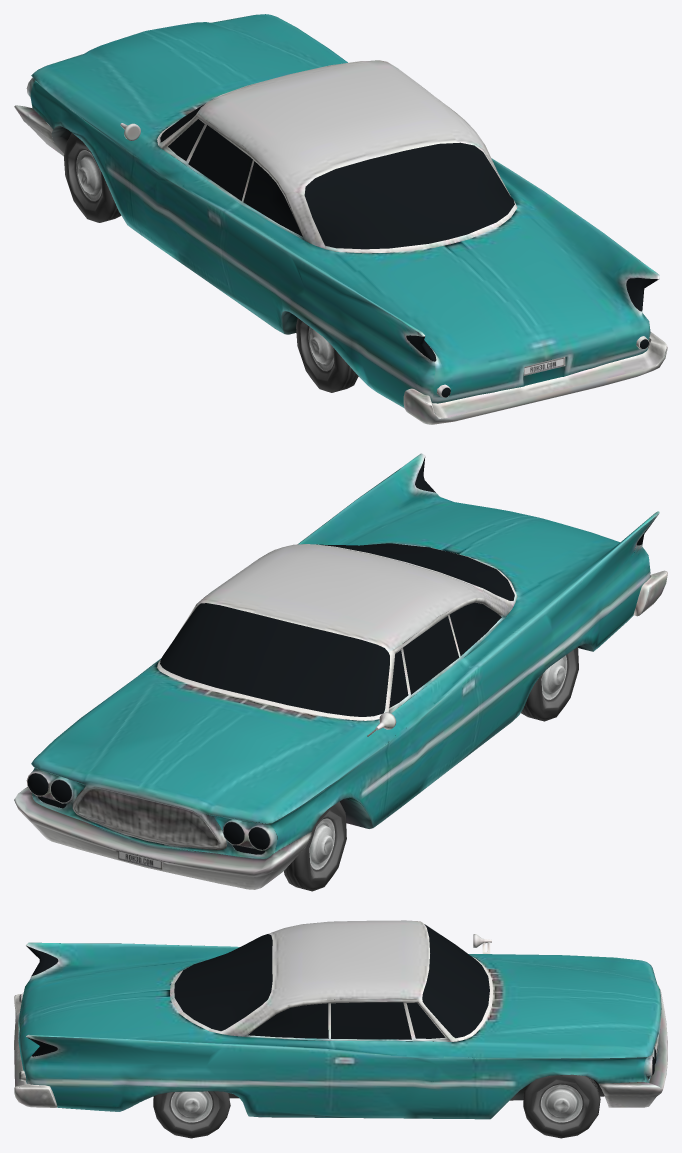
The model's file is old-car-saratoga.glb.
3 renders of one model, top to bottom at view 1: azimuth 30°, elevation 25°; view 2: azimuth 150°, elevation 25°; view 3: azimuth 270°, elevation 25°, orthographic. The views are drawn at different scales.
Parts seen in each view (by area): view 1: body, wheel_FL, wheel_RL; view 2: body, wheel_FL, wheel_RL; view 3: body, wheel_FR, wheel_RR.
Boxes of the visible parts, bbox=[...] form: body: bbox=[14, 14, 667, 424]; wheel_FL: bbox=[64, 133, 121, 222]; wheel_RL: bbox=[296, 318, 358, 392]; body: bbox=[14, 453, 667, 889]; wheel_FL: bbox=[284, 801, 346, 891]; wheel_RL: bbox=[521, 647, 578, 721]; body: bbox=[14, 920, 667, 1119]; wheel_FR: bbox=[523, 1074, 600, 1138]; wheel_RR: bbox=[153, 1091, 230, 1138].
Size of the model in its own units: 2.07 by 1.35 by 5.5.
Materials: 1 (1 with a texture image).
